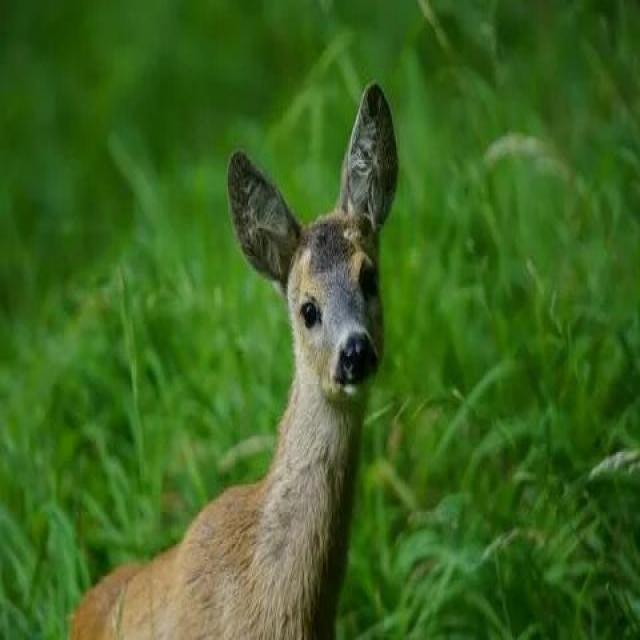deer: (106, 122, 510, 640)
